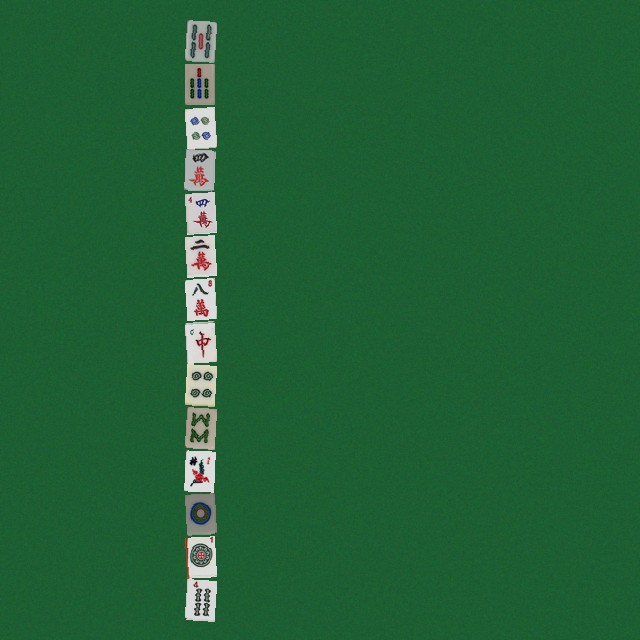tile: (184, 20, 214, 61), (184, 63, 214, 104), (184, 106, 214, 147), (184, 149, 214, 190), (184, 192, 214, 233), (184, 235, 214, 276), (184, 278, 214, 319), (184, 321, 214, 362), (184, 364, 214, 405), (184, 407, 214, 448), (184, 450, 214, 491), (184, 493, 214, 534), (184, 536, 214, 577), (184, 579, 214, 620)
